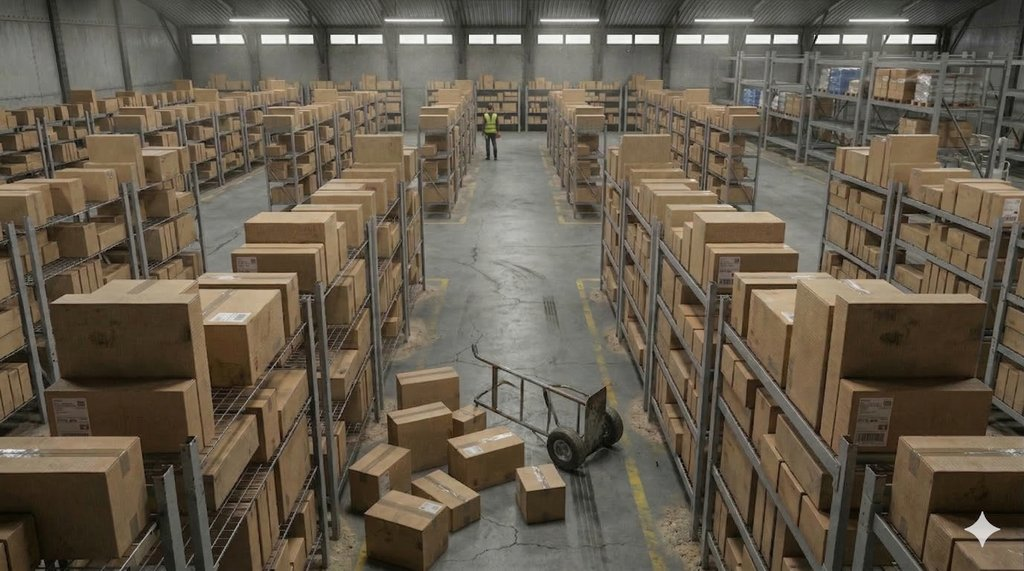empty_shelf: (807, 92, 883, 169), (710, 43, 811, 92), (763, 111, 807, 150)
obstacle: (324, 331, 645, 560)
person: (473, 102, 510, 159)
safety_vest: (479, 110, 500, 140)
